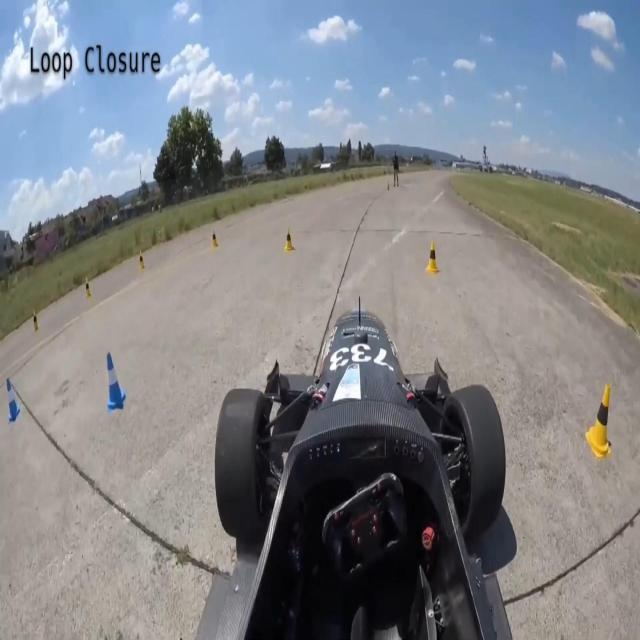blue_cone: (107, 351, 127, 412), (7, 377, 20, 422)
yellow_cone: (586, 381, 612, 457), (426, 240, 440, 276), (284, 226, 294, 252)
